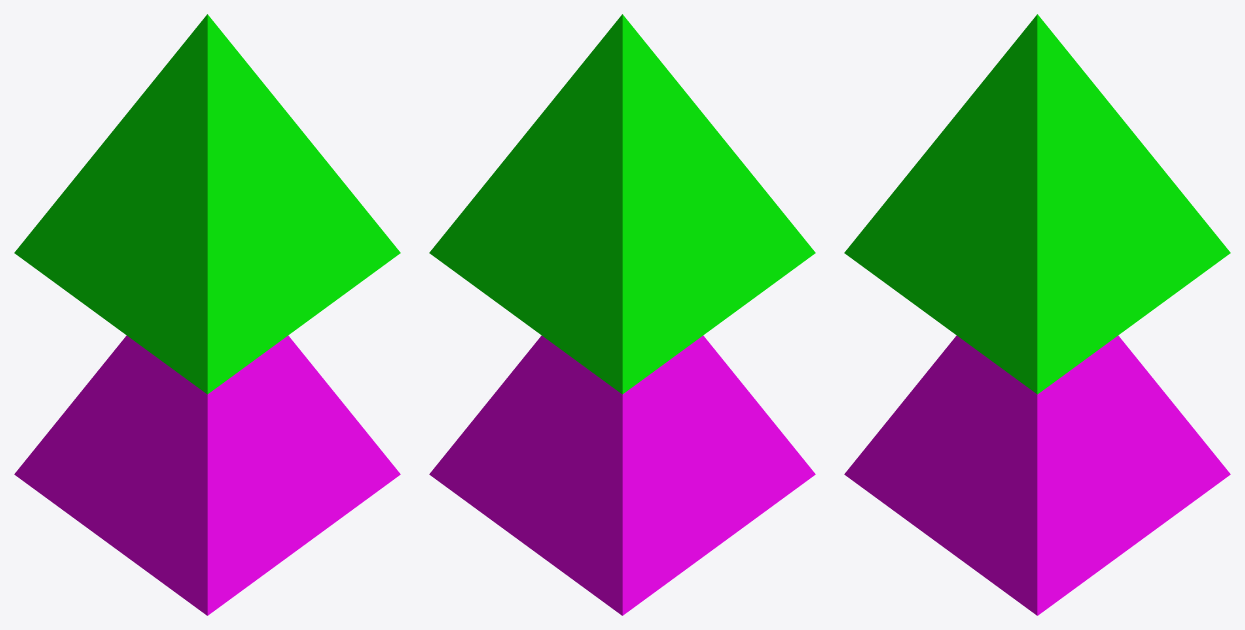
Rendered from Tetrahedron4.FBX.
3 views of the same model, side by side, from view 1: azimuth 30°, elevation 25°; view 2: azimuth 150°, elevation 25°; view 3: azimuth 270°, elevation 25° (orthographic).
Visible parts, largest first — view 1: GeoSphere002, GeoSphere001; view 2: GeoSphere002, GeoSphere001; view 3: GeoSphere002, GeoSphere001.
Boxes of the visible parts, bbox=[...] form: GeoSphere002: bbox=[14, 14, 400, 394]; GeoSphere001: bbox=[14, 335, 400, 615]; GeoSphere002: bbox=[429, 14, 815, 394]; GeoSphere001: bbox=[429, 335, 815, 615]; GeoSphere002: bbox=[844, 14, 1230, 394]; GeoSphere001: bbox=[844, 335, 1230, 615].
Size of the model in its own units: 2.22 by 3.71 by 2.56.
